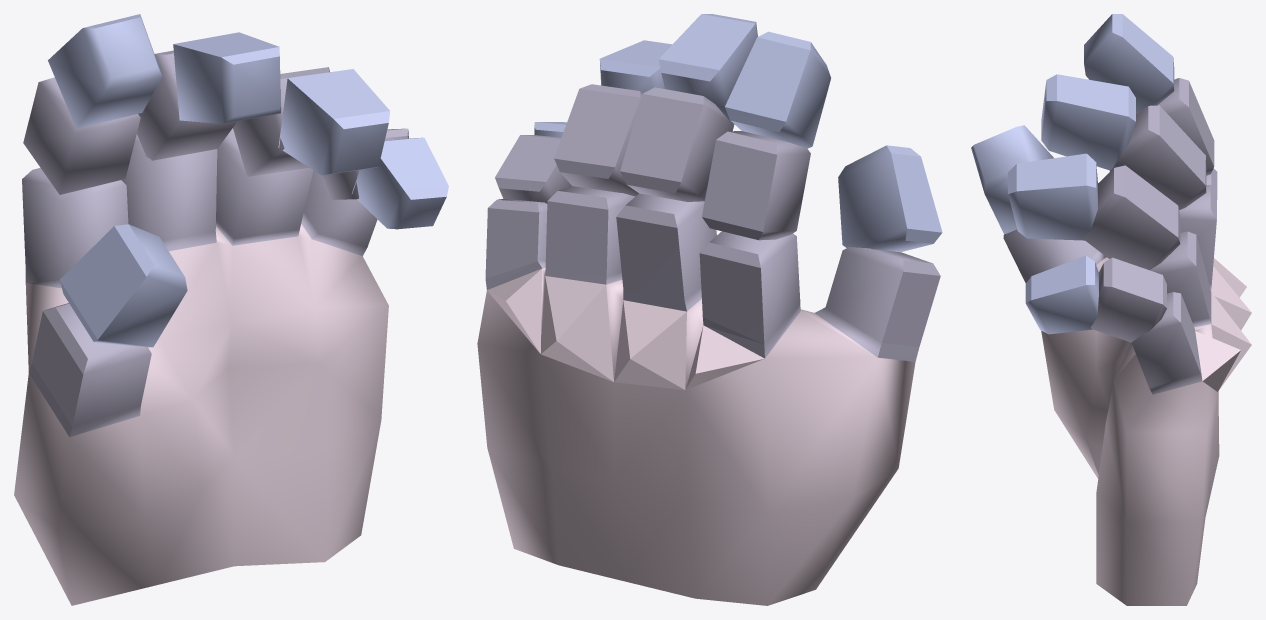
The picture shows the model from 3 angles, left to right: view 1: azimuth 30°, elevation 25°; view 2: azimuth 150°, elevation 25°; view 3: azimuth 270°, elevation 25°; orthographic projection. The views are drawn at different scales.
Visible parts, largest first — view 1: Object02; view 2: Object02; view 3: Object02.
Boxes of the visible parts, <box> form: Object02: <box>14,14,448,605</box>; Object02: <box>477,14,942,605</box>; Object02: <box>971,14,1251,605</box>.
Size of the model in its own units: 192 by 273 by 145.
